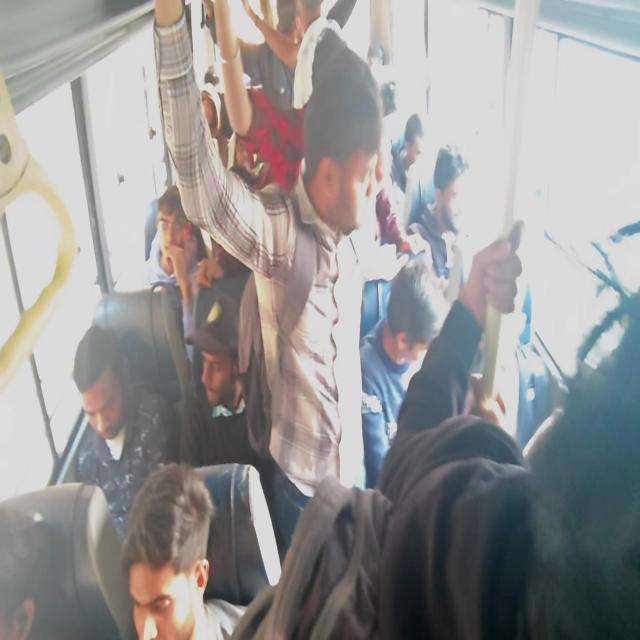person: (151, 0, 384, 554), (395, 220, 524, 439), (71, 323, 178, 543), (120, 461, 248, 638), (359, 258, 442, 488), (181, 294, 253, 465), (144, 184, 208, 345), (408, 143, 468, 280), (389, 112, 424, 193)
